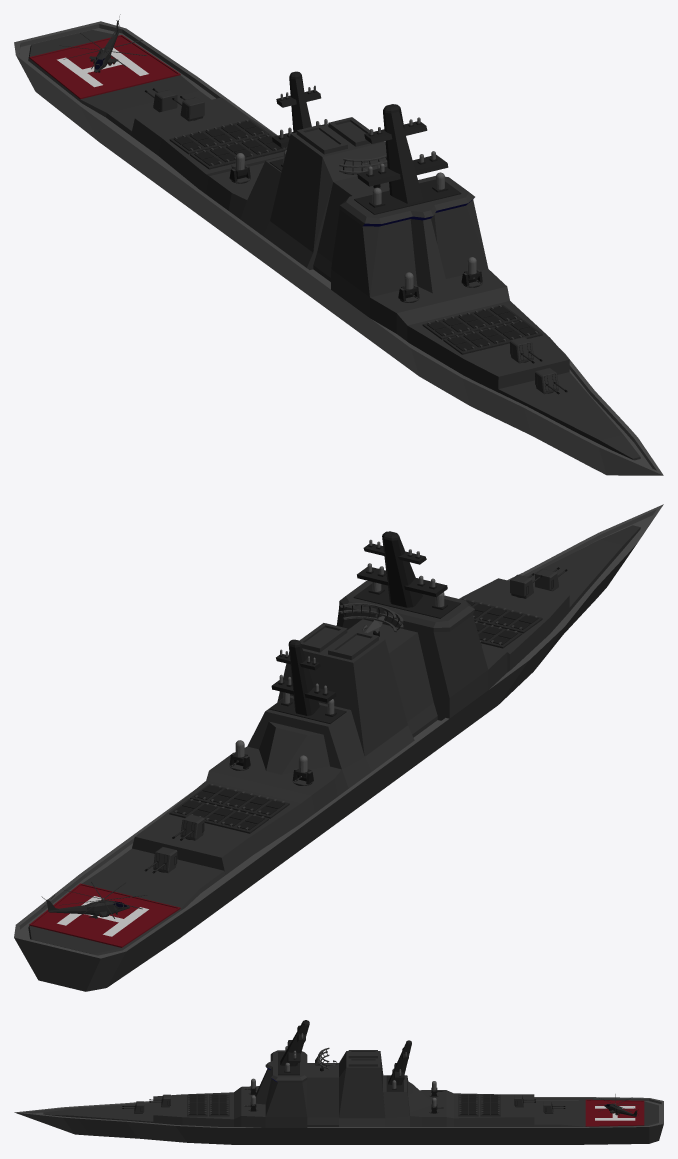
The model's file is demo_ship.obj.
3 renders of one model, top to bottom at view 1: azimuth 30°, elevation 25°; view 2: azimuth 150°, elevation 25°; view 3: azimuth 270°, elevation 25°, orthographic. The views are drawn at different scales.
Parts seen in each view (by area): view 1: Plane.023, Plane, Plane.024, Plane.025, Plane.047, Plane.022, Plane.011; view 2: Plane.023, Plane, Plane.024, Plane.025, Plane.062, Cylinder_Cylinder.001, Plane.036; view 3: Plane.023, Plane, Plane.024, Plane.025, Plane.022, Plane.011, Plane.036, Plane.047.
Part boxes in pixels (x1=…): Plane.023: x1=28, y1=30, x2=640, y2=460; Plane: x1=14, y1=21, x2=663, y2=475; Plane.024: x1=354, y1=104, x2=461, y2=214; Plane.025: x1=269, y1=71, x2=327, y2=171; Plane.047: x1=169, y1=119, x2=269, y2=154; Plane.022: x1=422, y1=305, x2=522, y2=339; Plane.011: x1=443, y1=320, x2=542, y2=354; Plane.023: x1=28, y1=525, x2=640, y2=955; Plane: x1=14, y1=504, x2=663, y2=991; Plane.024: x1=353, y1=531, x2=460, y2=618; Plane.025: x1=269, y1=639, x2=346, y2=723; Plane.062: x1=46, y1=899, x2=129, y2=916; Cylinder_Cylinder.001: x1=339, y1=603, x2=403, y2=632; Plane.036: x1=190, y1=784, x2=289, y2=818; Plane.023: x1=43, y1=1050, x2=658, y2=1127; Plane: x1=14, y1=1097, x2=663, y2=1144; Plane.024: x1=278, y1=1020, x2=309, y2=1075; Plane.025: x1=386, y1=1040, x2=411, y2=1091; Plane.022: x1=209, y1=1094, x2=229, y2=1116; Plane.011: x1=187, y1=1094, x2=207, y2=1116; Plane.036: x1=458, y1=1094, x2=478, y2=1116; Plane.047: x1=480, y1=1094, x2=500, y2=1116.
Size of the model in its own units: 30.01 by 51.23 by 266.
